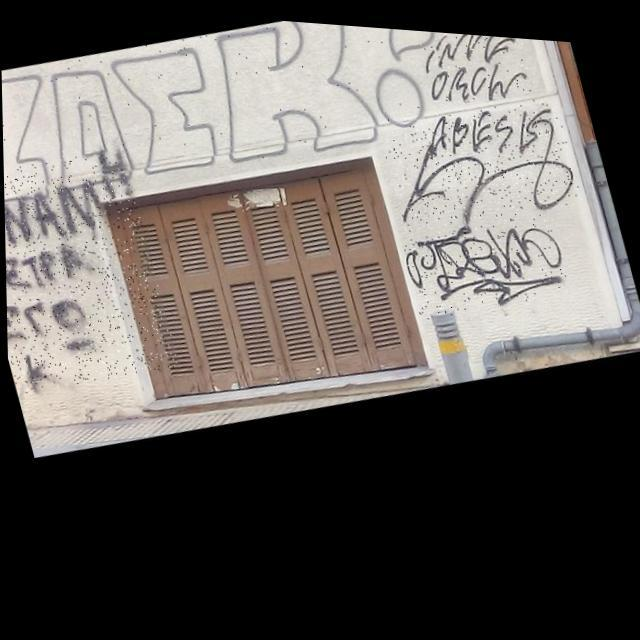-: (0, 0, 461, 238), (2, 139, 178, 403), (376, 77, 583, 238), (398, 194, 572, 322), (418, 24, 539, 109), (308, 18, 523, 52)
